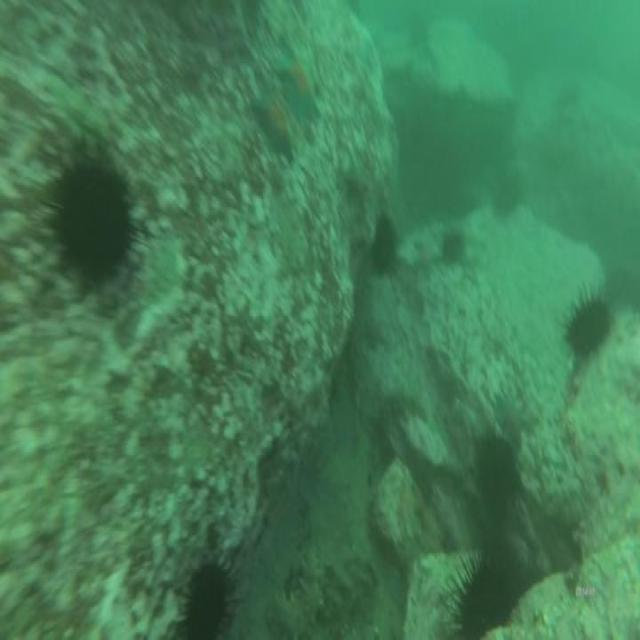echinus: (54, 169, 129, 278), (460, 562, 512, 637), (187, 569, 229, 640), (476, 441, 518, 507), (568, 296, 606, 348), (373, 217, 394, 266), (494, 172, 518, 214), (440, 229, 463, 261)
holothurian: (270, 542, 326, 640)
starfish: (277, 54, 320, 115), (252, 92, 292, 152), (417, 229, 440, 267)
